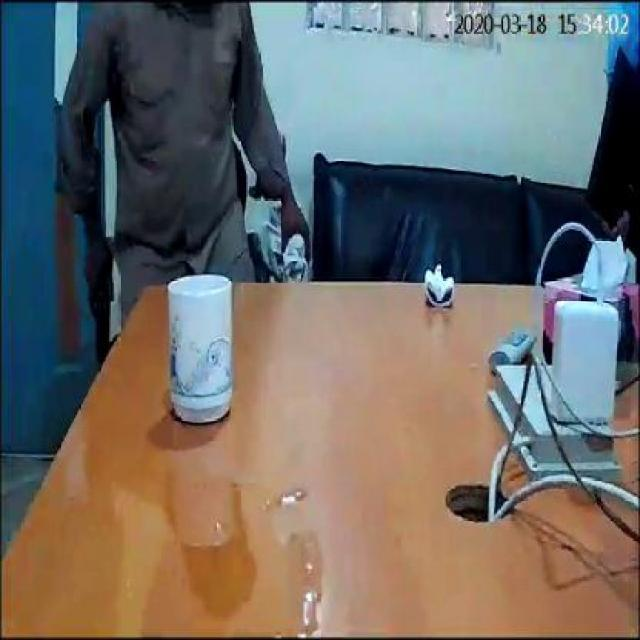spill: (121, 458, 328, 636)
